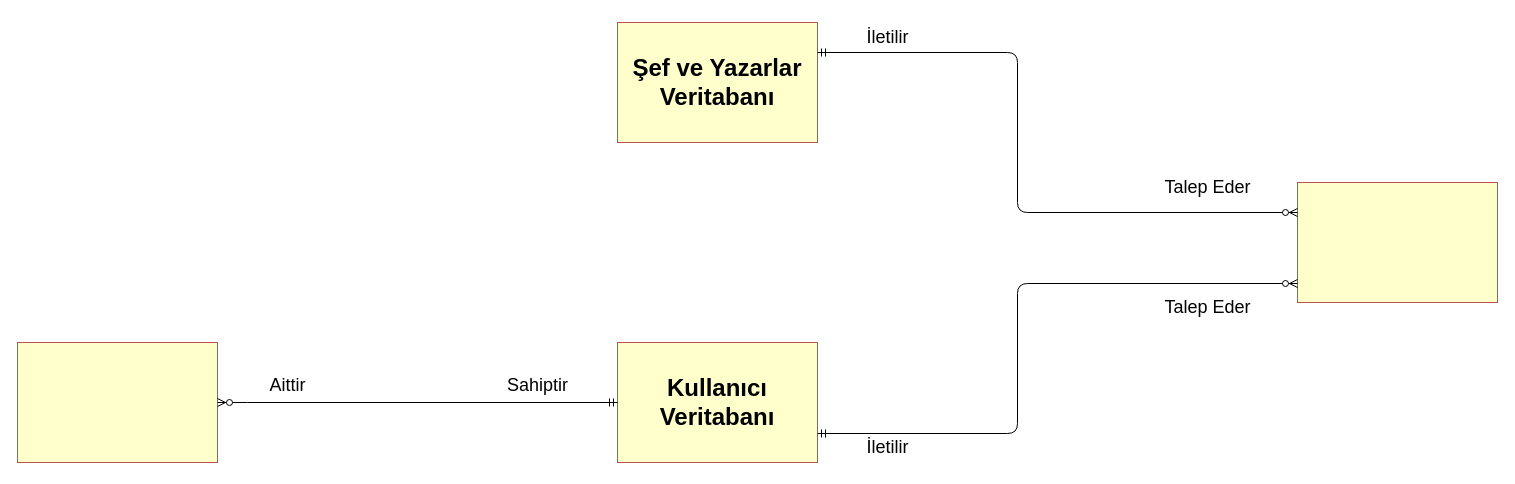
Some shapes in this 1515 by 484 pixel diagram are drawn without their labels. The centre of each missing label's shape, as x and y in pixels:
Yemek Tarifi Veritabanı: the point at 1397,242
Ürünler Veritabanı: the point at 117,402
